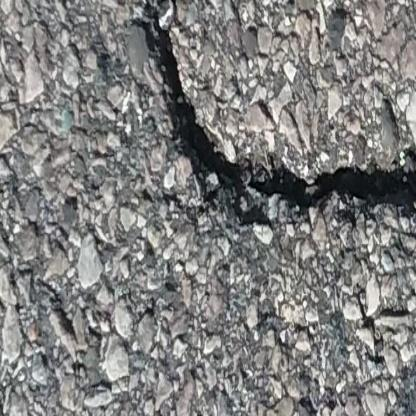Cracks: (133, 0, 416, 227)
